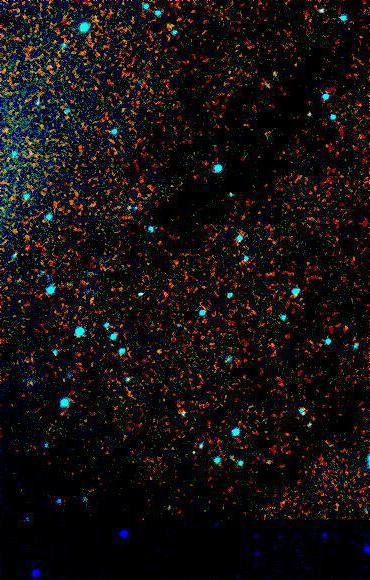star: (144, 335, 174, 365)
